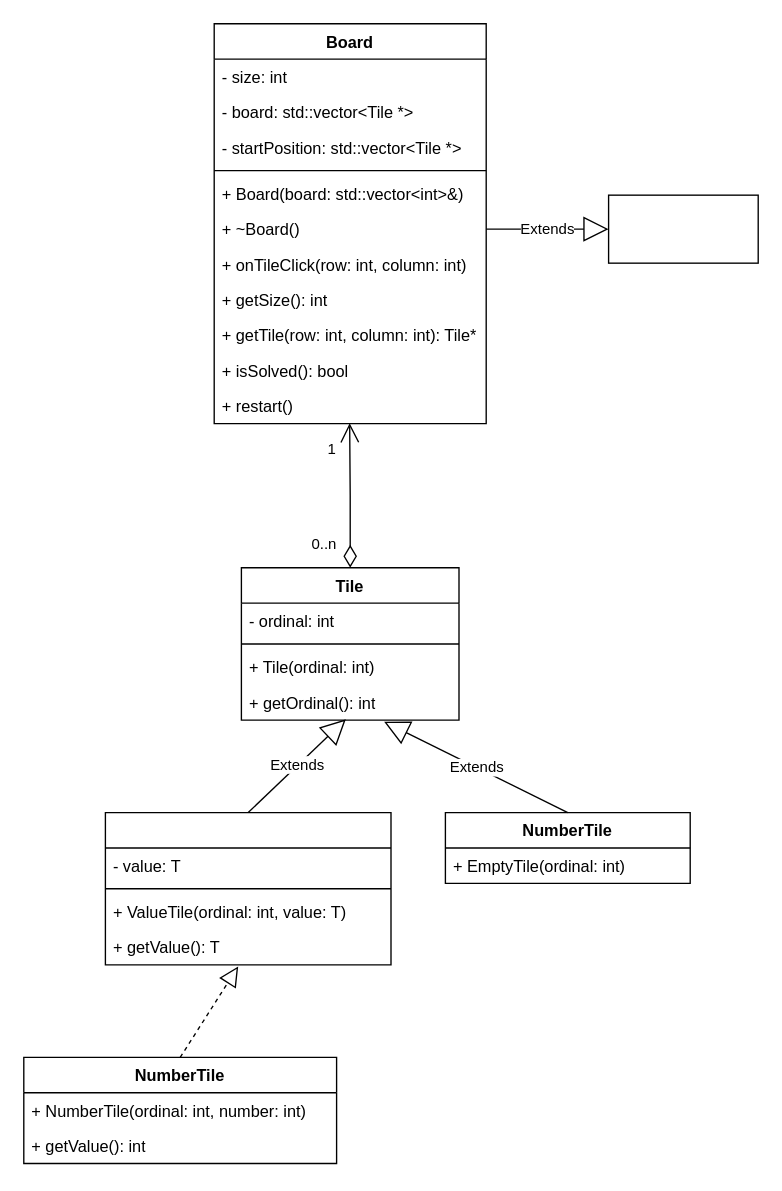
This 782x1191 diagram has some shape labels left out. Here are the shapes that lost their labels. From the top down, the box of each, then its label:
(607, 194, 758, 263): «abstract class» QObject
(104, 811, 391, 965): ValueTile<T>
